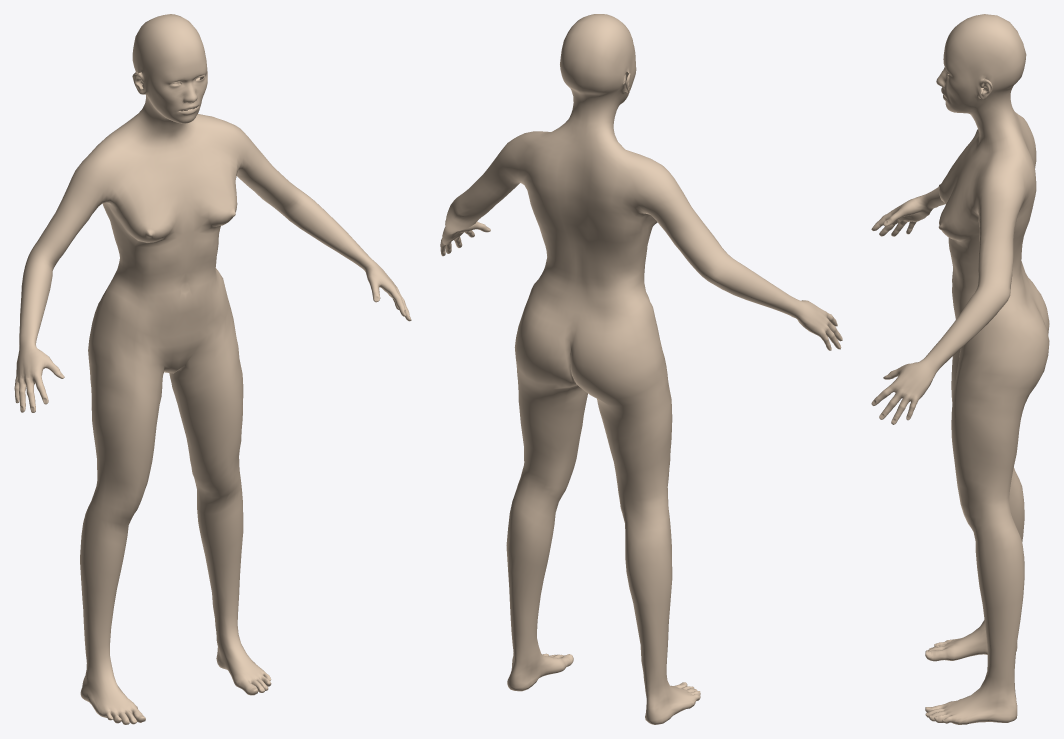
File: organizer_body.fbx
The picture shows the model from 3 angles, left to right: view 1: azimuth 30°, elevation 25°; view 2: azimuth 150°, elevation 25°; view 3: azimuth 270°, elevation 25°; orthographic projection.
Visible parts, largest first — view 1: Human; view 2: Human; view 3: Human.
Boxes of the visible parts, box(x1,y1,x2,y2) form: Human: box(14, 14, 411, 724); Human: box(440, 14, 842, 724); Human: box(871, 14, 1049, 724).
Size of the model in its own units: 103 by 170 by 40.89.
